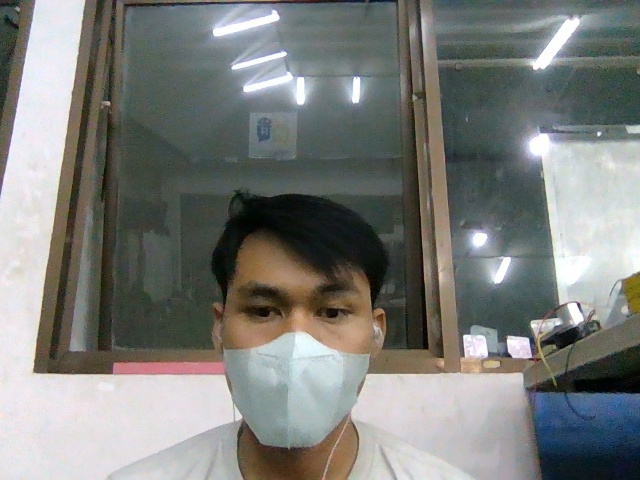mask_on: (224, 332, 369, 447)
